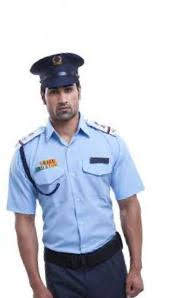uniform: (7, 53, 151, 259)
